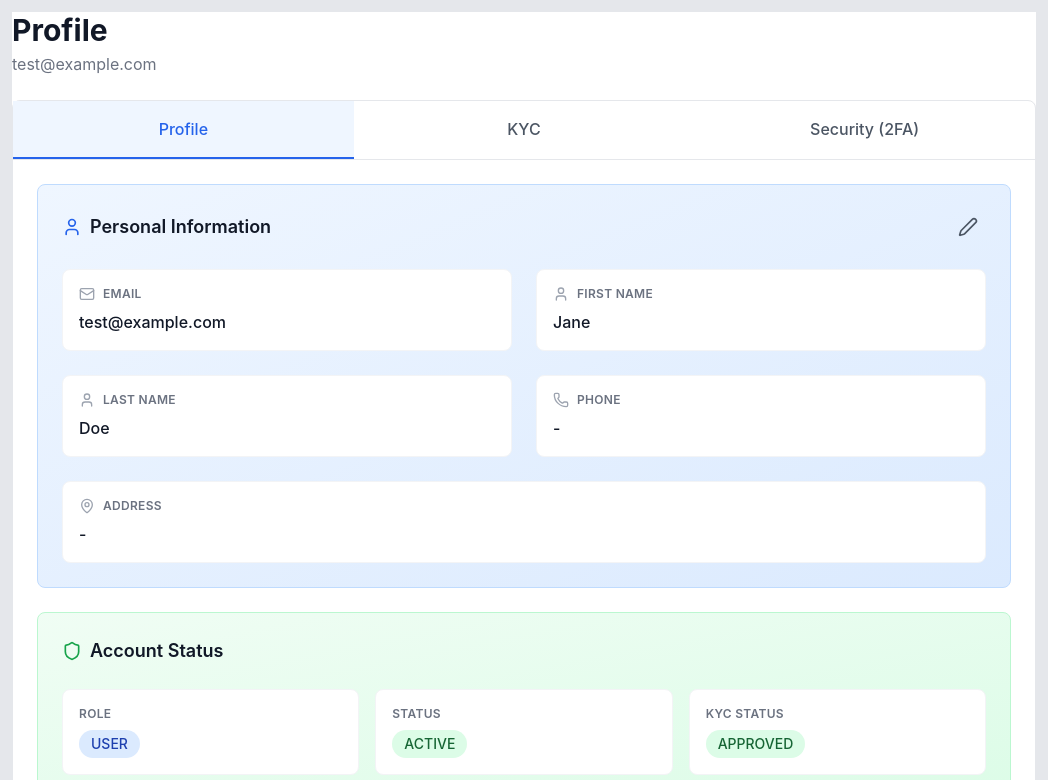
Test case: Profile page › switches to KYC tab when clicked
This screenshot has width=1048, height=780.
Switch by clicking the tab
Click the tab "KYC".
click(524, 130)  # box [354,101,694,159]
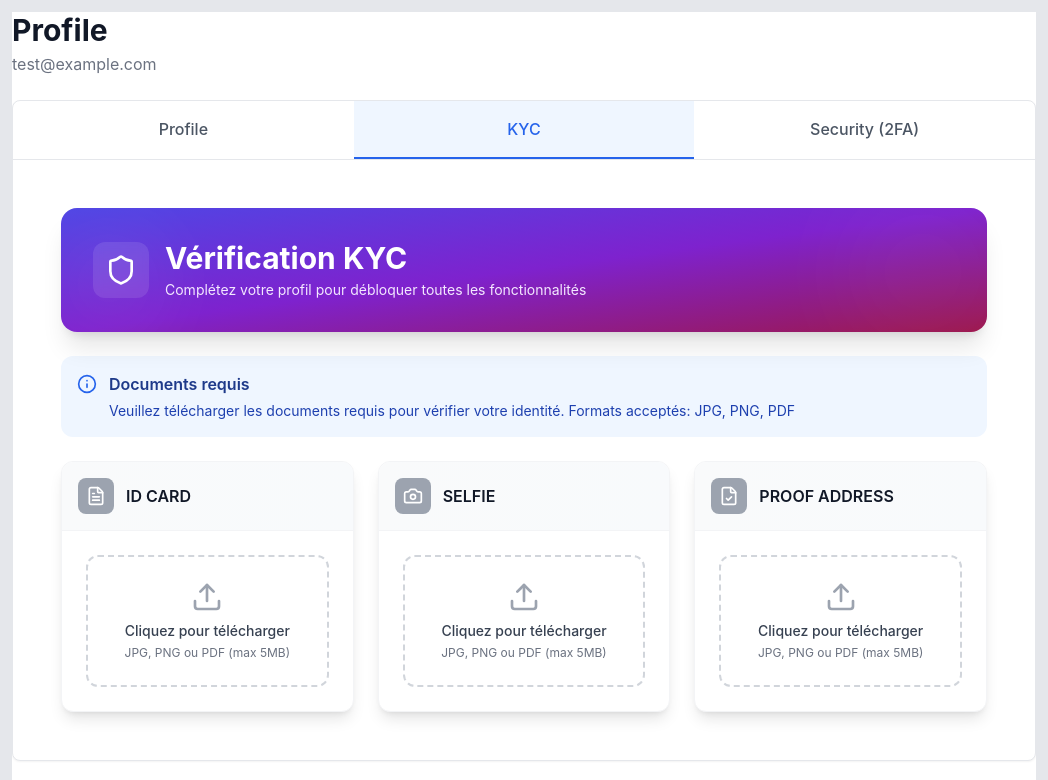
Expected: the heading "Vérification KYC" is shown, [165,240,407,276]
